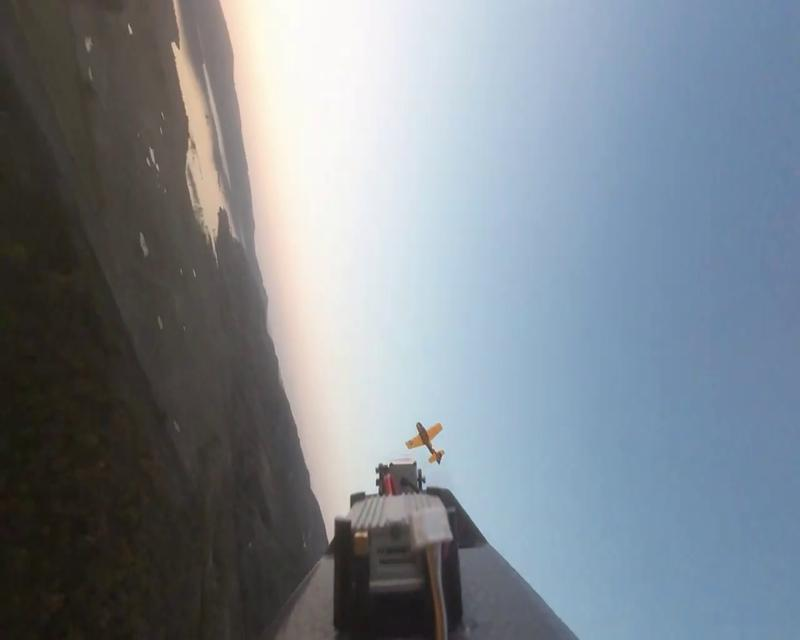UAV: (404, 421, 446, 466)
